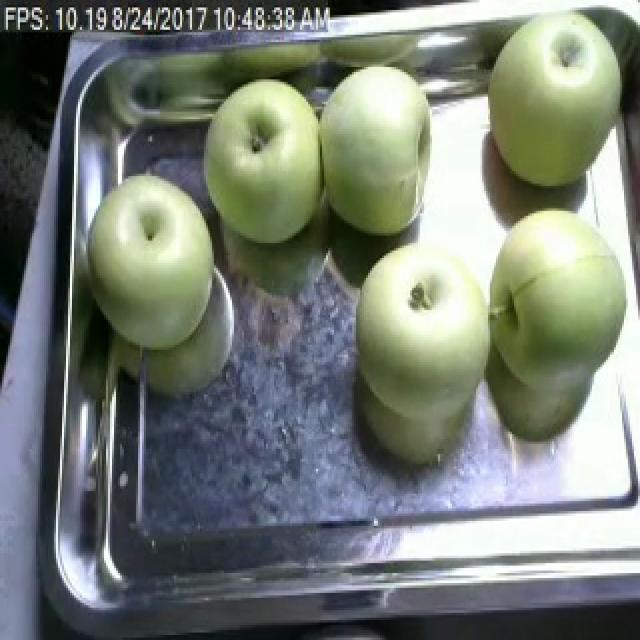50-_ripeness: (488, 201, 638, 412), (354, 233, 491, 432), (84, 159, 223, 344), (483, 3, 612, 195), (189, 69, 331, 243), (317, 52, 443, 234)
